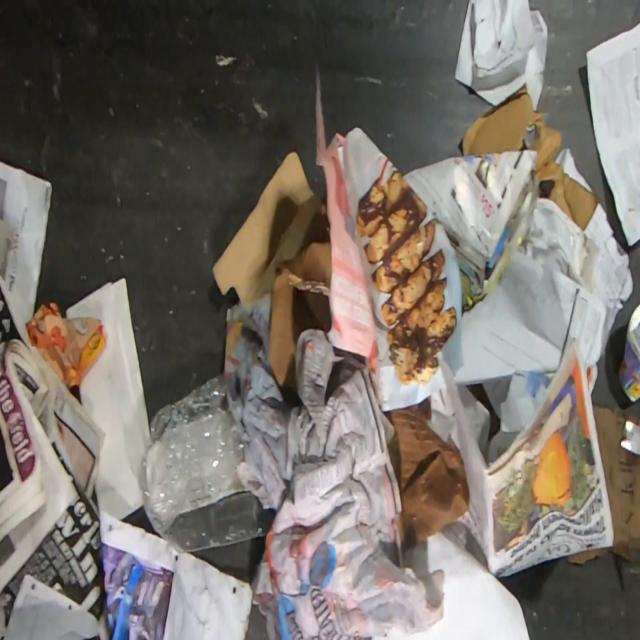cardboard: (461, 82, 601, 232), (212, 150, 327, 304), (268, 238, 331, 389), (618, 303, 640, 403)
soft_plastic: (139, 372, 274, 552)
